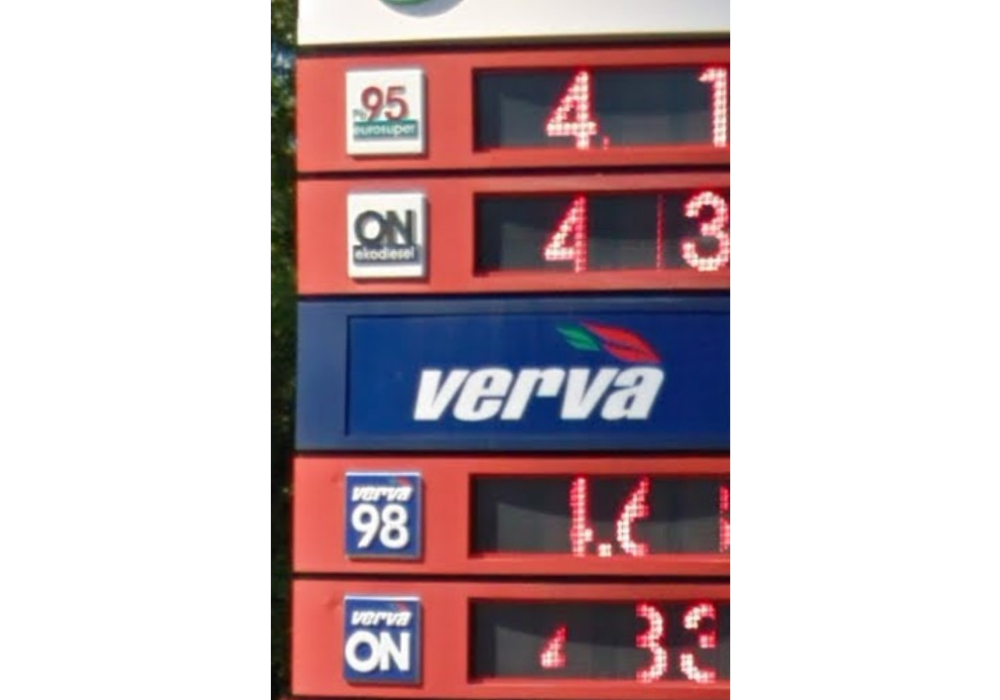ON: (346, 190, 429, 282), (342, 596, 424, 687)
PB95: (343, 69, 429, 163)
PB98: (342, 469, 425, 563)
